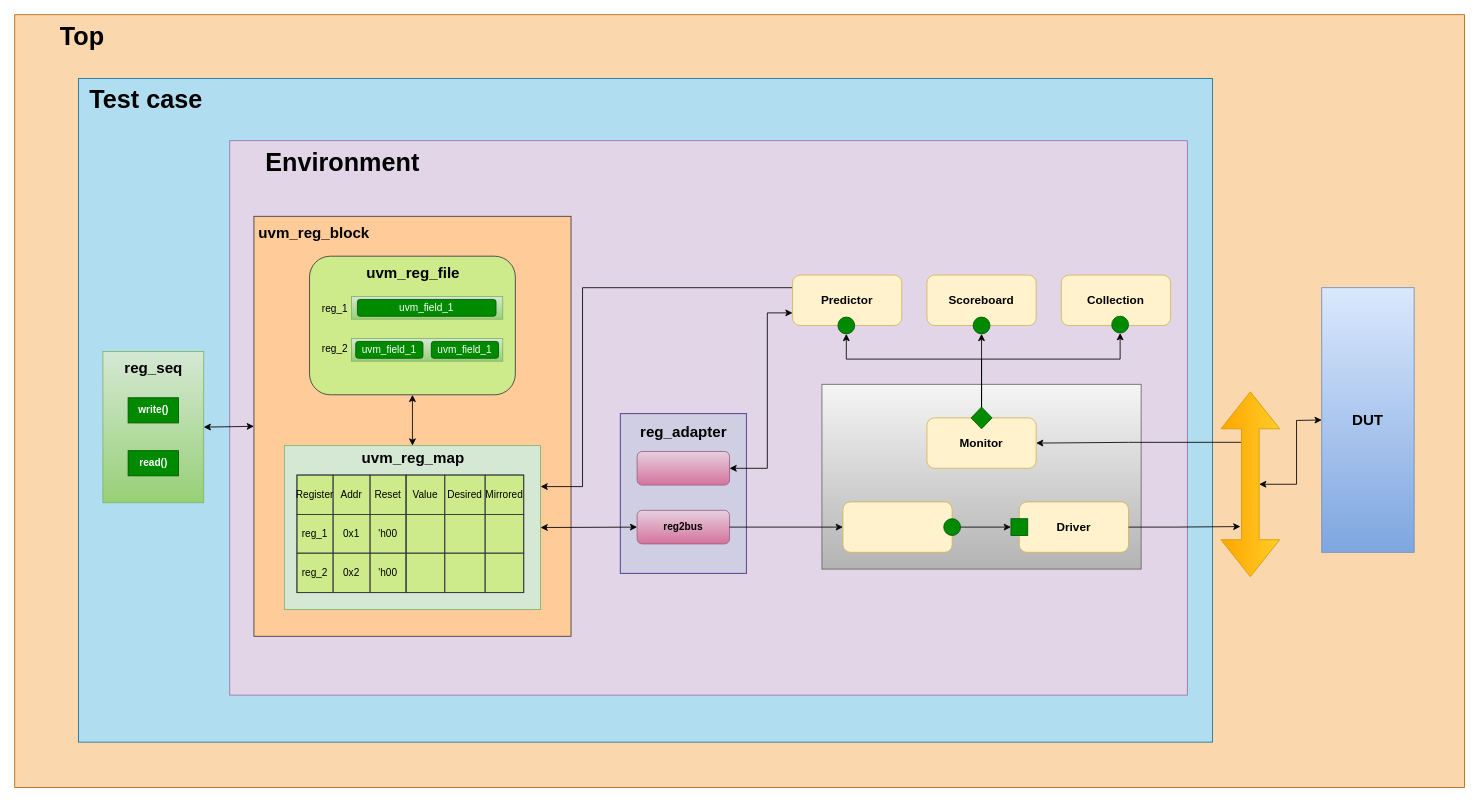
This 1479x802 diagram has some shape labels left out. Here are the shapes that lost their labels. From the top down, the box of each, then its label:
(636, 451, 730, 485): bus2reg
(1220, 391, 1280, 577): interface
(842, 501, 952, 552): Sequencer
